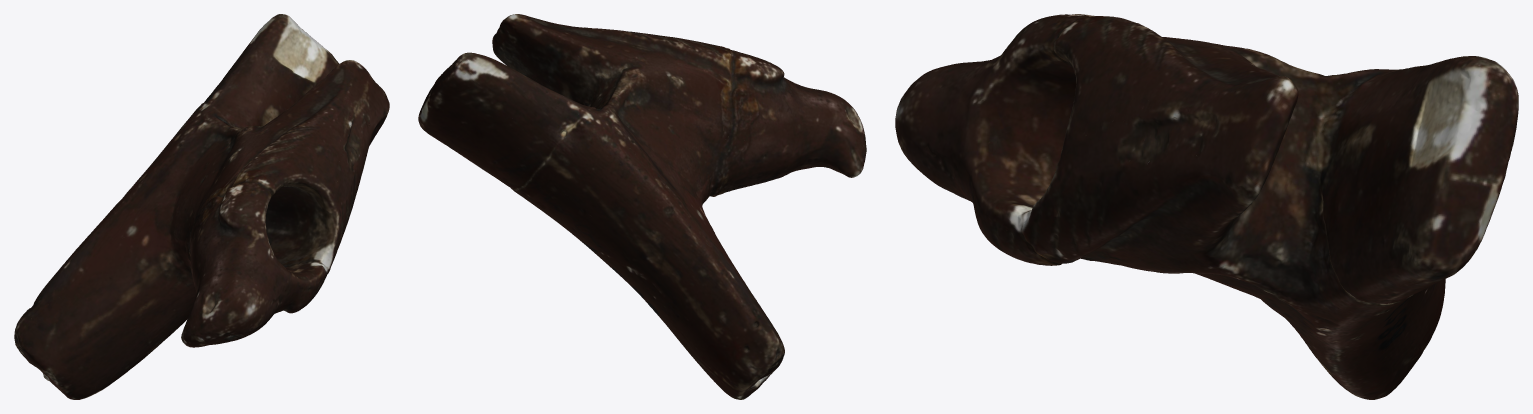
3 renders of one model, left to right at view 1: azimuth 30°, elevation 25°; view 2: azimuth 150°, elevation 25°; view 3: azimuth 270°, elevation 25°, orthographic. The views are drawn at different scales.
Parts seen in each view (by area): view 1: Node; view 2: Node; view 3: Node.
Boxes of the visible parts, x1,y1,x2,y2 form: Node: (14, 14, 389, 399); Node: (418, 14, 866, 399); Node: (895, 14, 1518, 399).
Size of the model in its own units: 73.25 by 61.34 by 64.83.
Materials: 1 (1 with a texture image).
